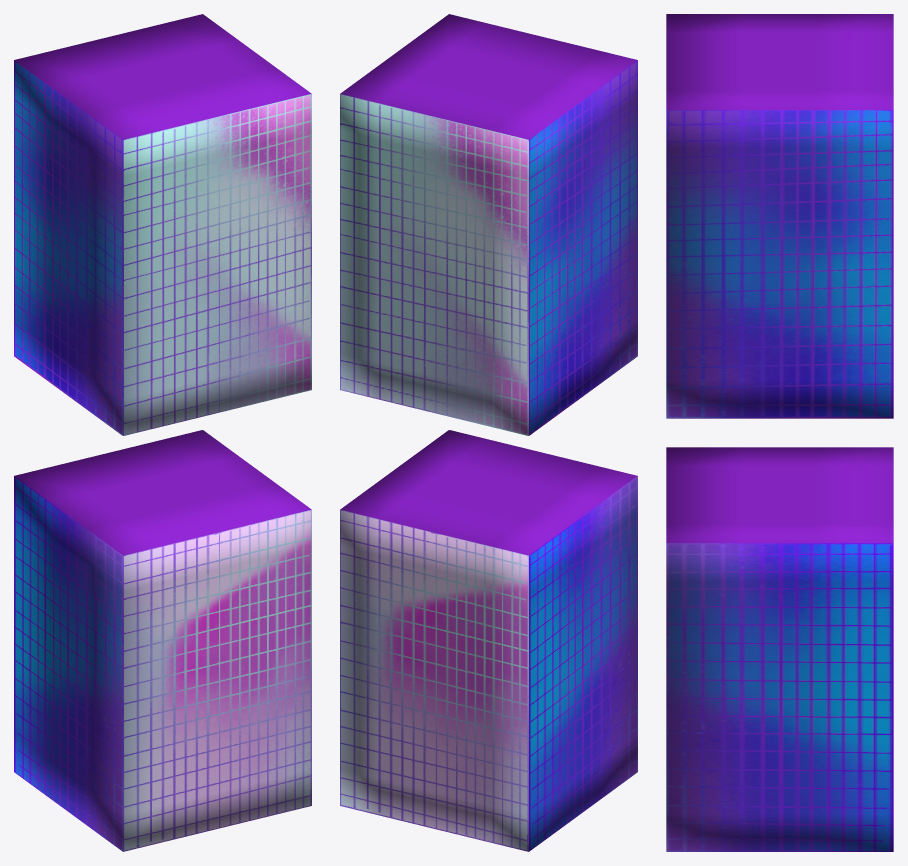
Rendered from Build_B.obj.
3 views of the same model, side by side, from view 1: azimuth 30°, elevation 25°; view 2: azimuth 150°, elevation 25°; view 3: azimuth 270°, elevation 25° (orthographic). The views are drawn at different scales.
Visible parts, largest first — view 1: Build_B_Bot; view 2: Build_B_Bot; view 3: Build_B_Bot.
Boxes of the visible parts, bbox=[...] form: Build_B_Bot: bbox=[14, 14, 311, 851]; Build_B_Bot: bbox=[340, 14, 637, 851]; Build_B_Bot: bbox=[666, 14, 893, 851].
Bounding box in the file's own units: 40 × 144 × 40.
Materials: 1 (1 with a texture image).
